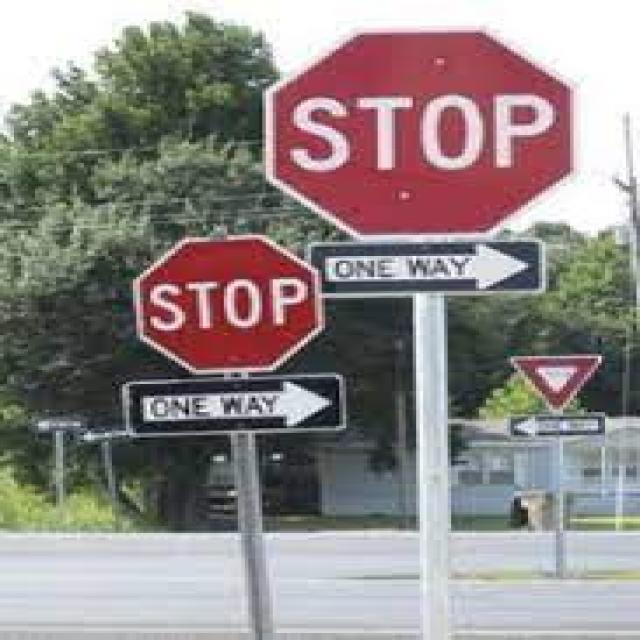stop: (261, 26, 578, 238), (132, 237, 327, 376)
